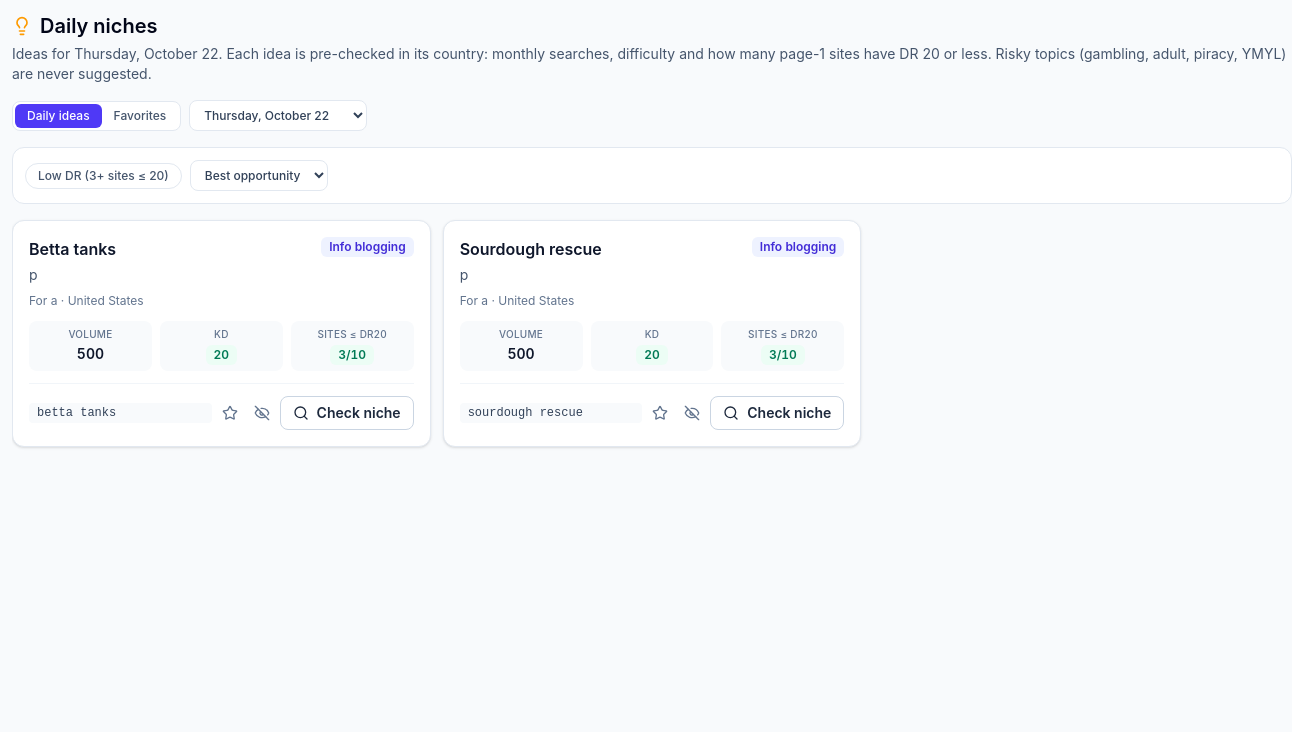
daily niche reactions › rolls back and explains when saving fails
expect the text "Betta tanks" is shown: met, box 29,237 -> 116,261
Click the button named "Add “Betta tanks” to favorites" at (230,413), box 216,399 -> 244,427
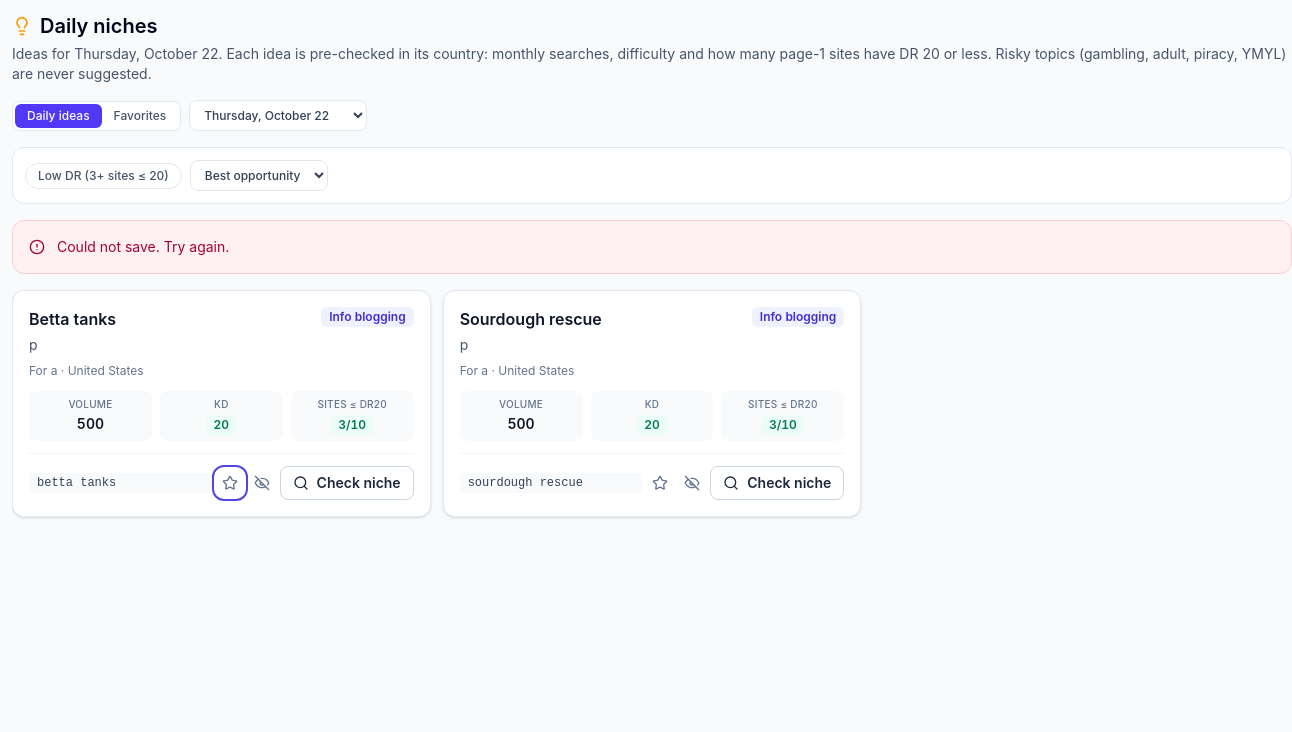
expect the message shows "Could not save": met, box 57,238 -> 229,255
